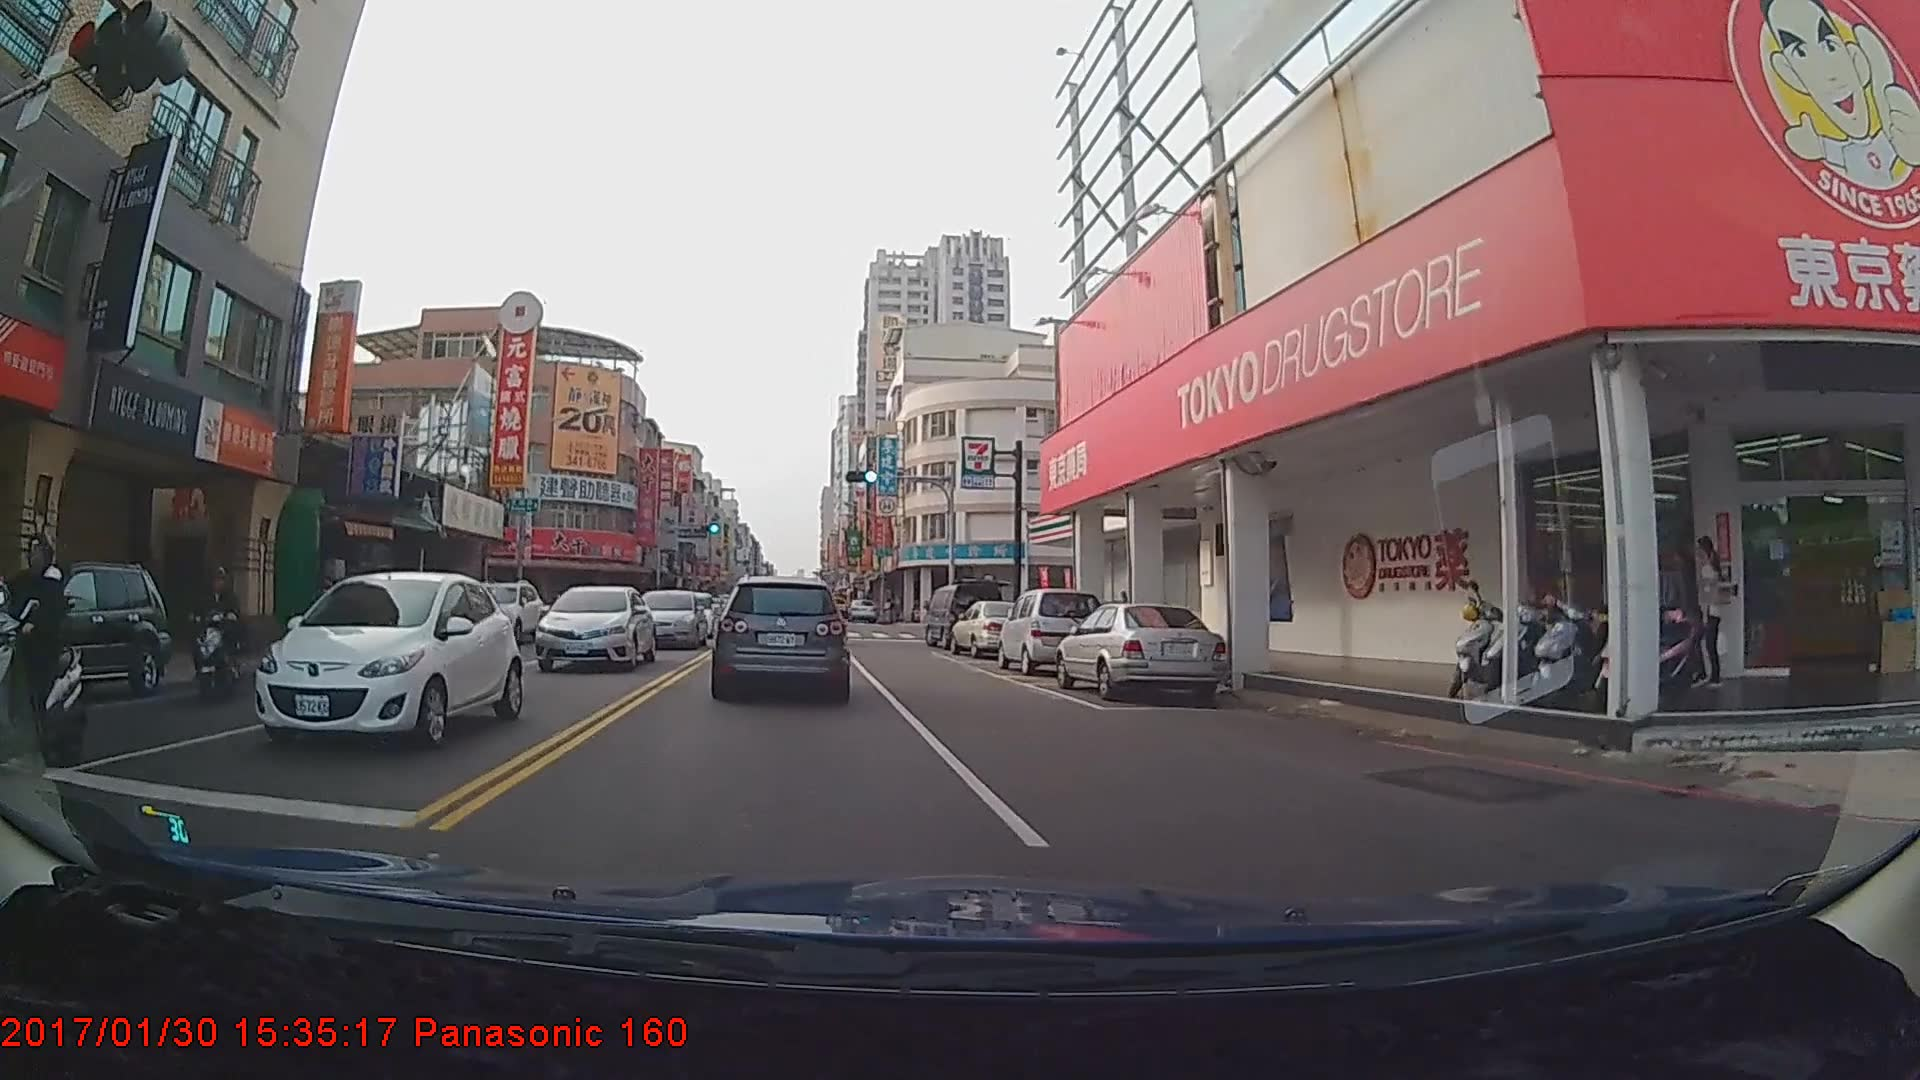pedestrian: (1660, 541, 1708, 689), (1692, 533, 1727, 691)
rider: (1, 535, 96, 761), (186, 566, 254, 701)
vehicle: (232, 568, 510, 757), (0, 560, 168, 697), (1053, 599, 1226, 707), (713, 576, 846, 700), (532, 584, 654, 671), (993, 585, 1103, 674), (920, 579, 1004, 651), (950, 599, 1043, 659), (457, 579, 542, 644), (629, 588, 707, 650), (848, 596, 878, 621)
